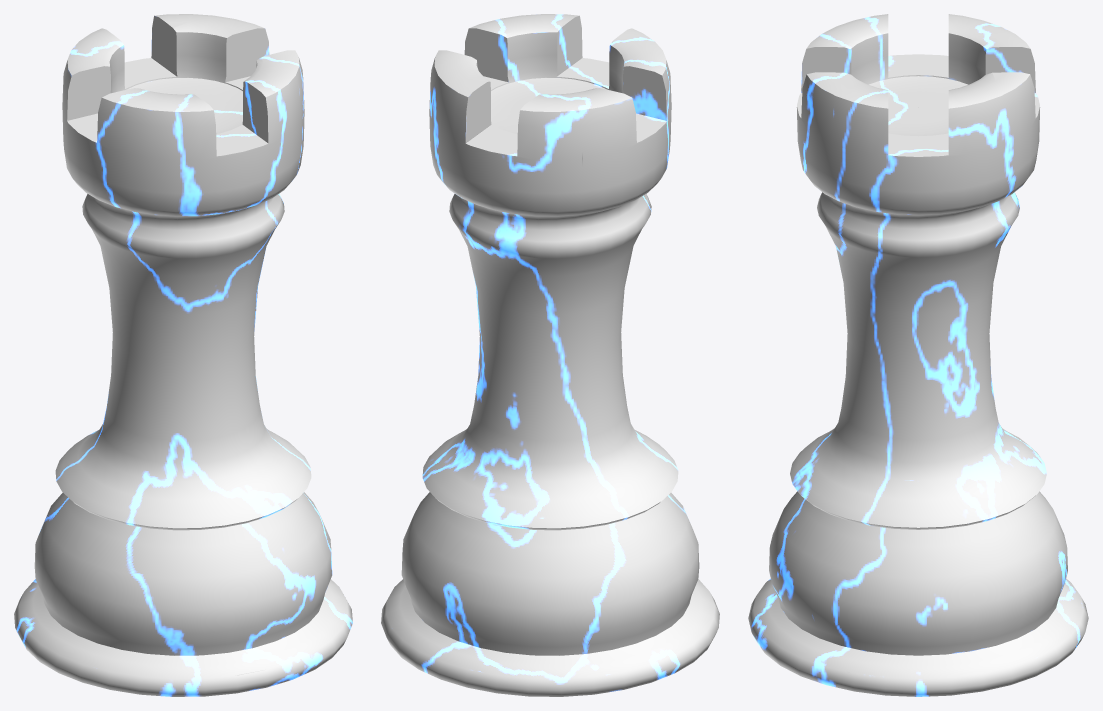
File: WhiteRook.glb
3 renders of one model, left to right at view 1: azimuth 30°, elevation 25°; view 2: azimuth 150°, elevation 25°; view 3: azimuth 270°, elevation 25°, orthographic.
Parts seen in each view (by area): view 1: Rook.002; view 2: Rook.002; view 3: Rook.002.
Part boxes in pixels (box(x1,y1,x2,y2)): Rook.002: box(14, 14, 352, 696); Rook.002: box(381, 14, 719, 696); Rook.002: box(748, 14, 1088, 696).
Bounding box in the file's own units: 0.1835 × 0.3408 × 0.1835.
1 material, 1 textured.
